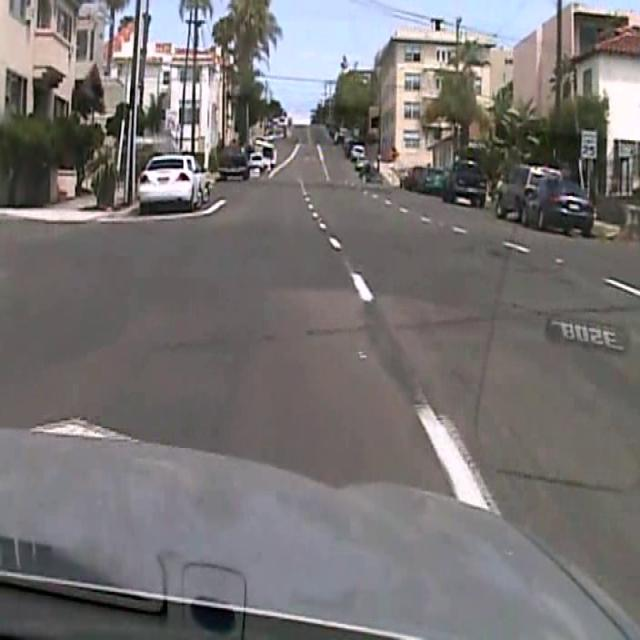speedLimit25: (579, 128, 598, 160)
